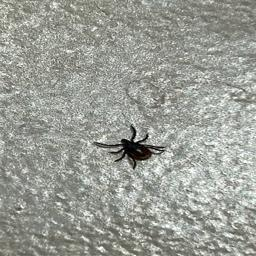Ixodes scapularis: (91, 125, 166, 170)
